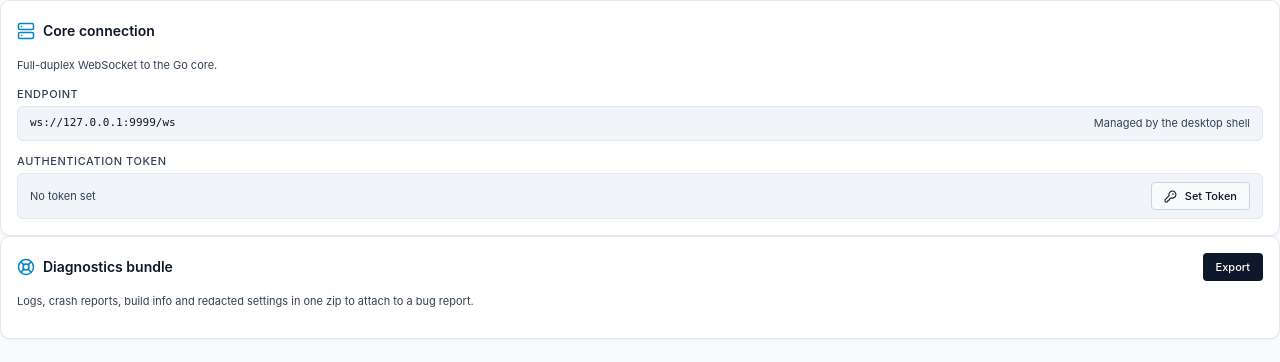
Test: Core views & P0-P2 regression DOM coverage › renders AppHeader, StatusBanner, ConnectionCard (including SetRemoteToken), DiagnosticsCard, LiveLogView & SystemCard
This screenshot has width=1280, height=362.
Earlier steps of the test are not shown.
Later steps or results of the test are not shown.
Click the button "Export".
click(1233, 267)  # box top-left (1203, 253), bottom-right (1263, 281)
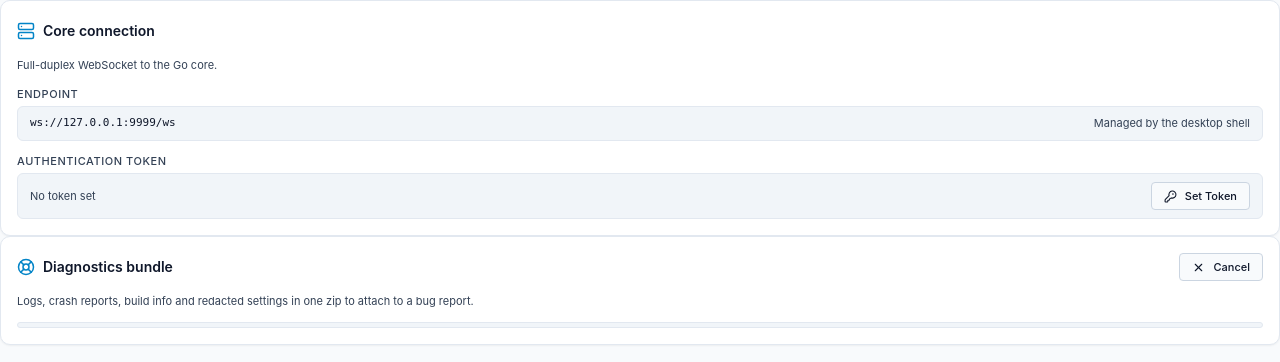
Result: the progress indicator is shown at top-left (17, 322), bottom-right (1263, 328)
